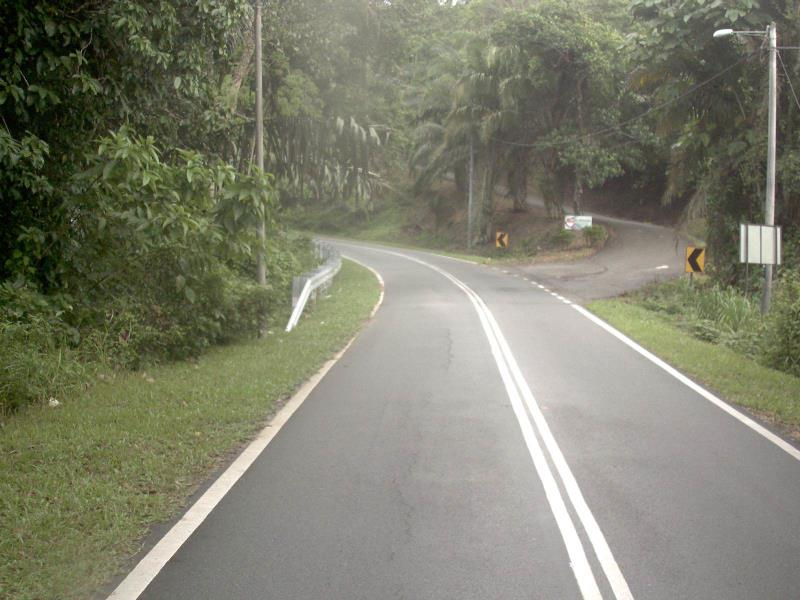traffic_sign: (678, 238, 714, 282)
